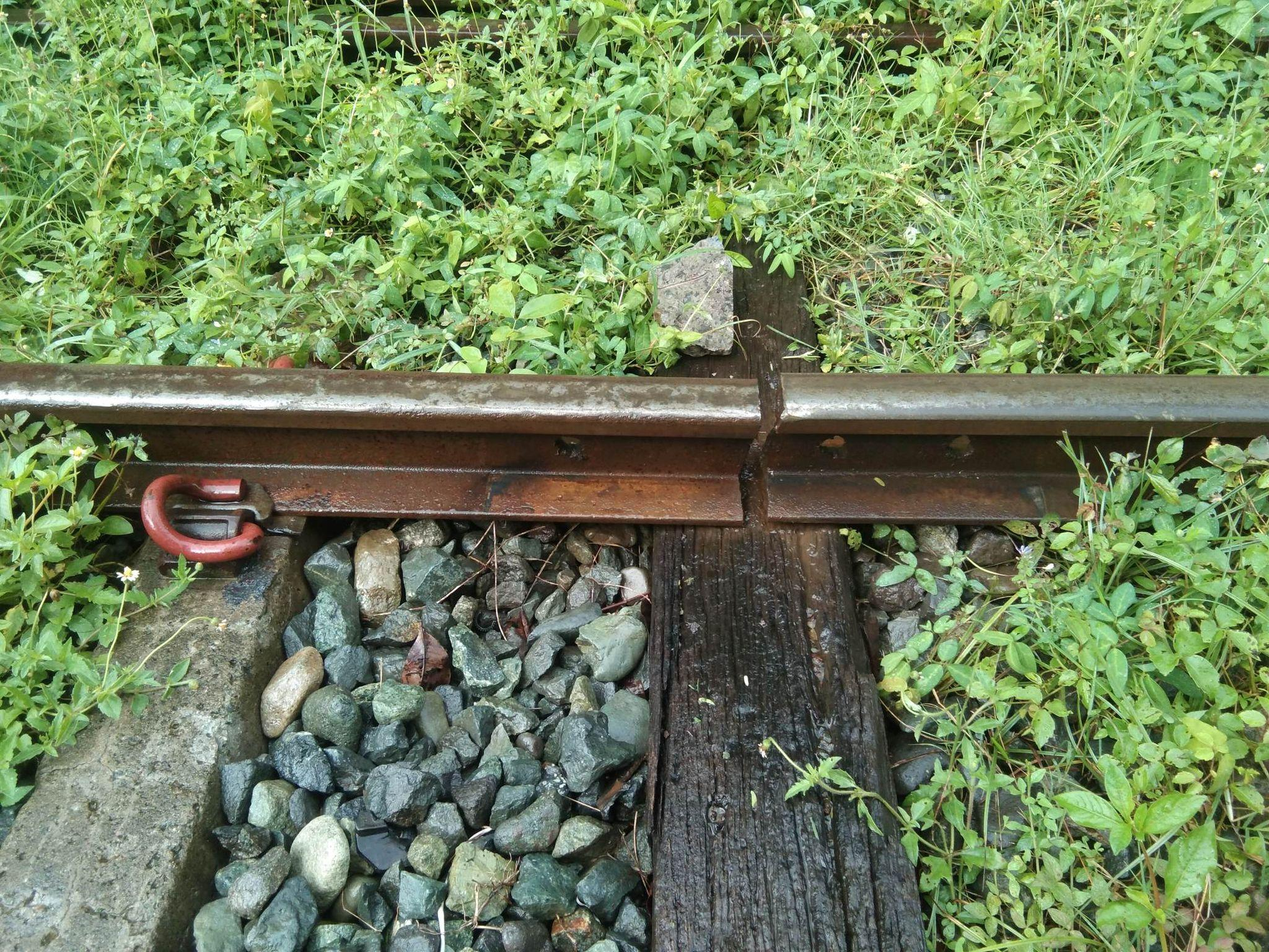railway-gap: (655, 353, 849, 553)
